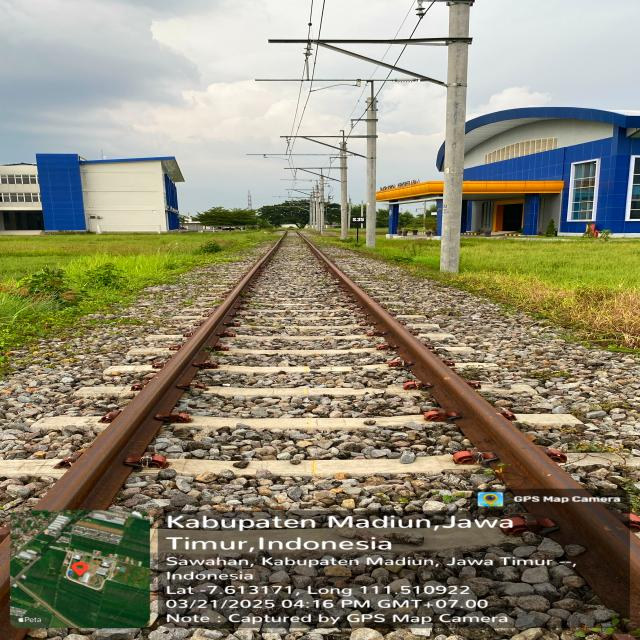rail-detection: (297, 231, 640, 618), (35, 230, 286, 511)
